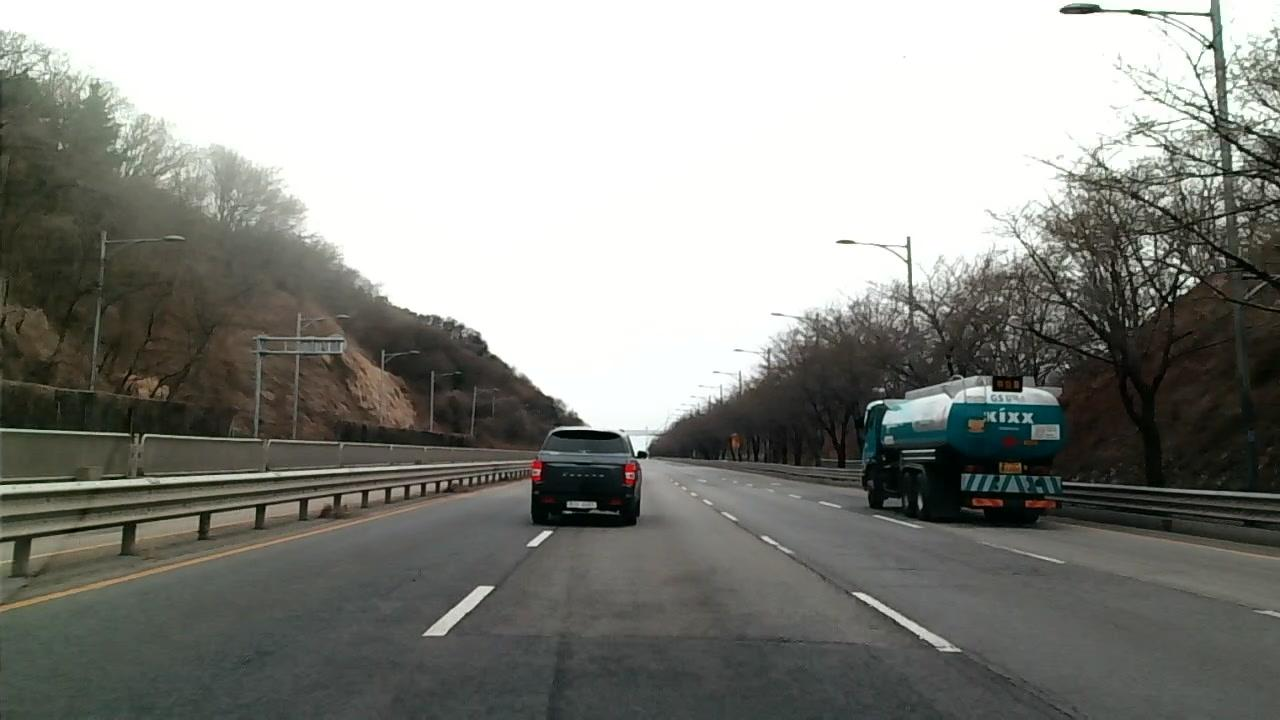hcrack: (463, 623, 874, 658)
vcrack: (732, 522, 1079, 719)
